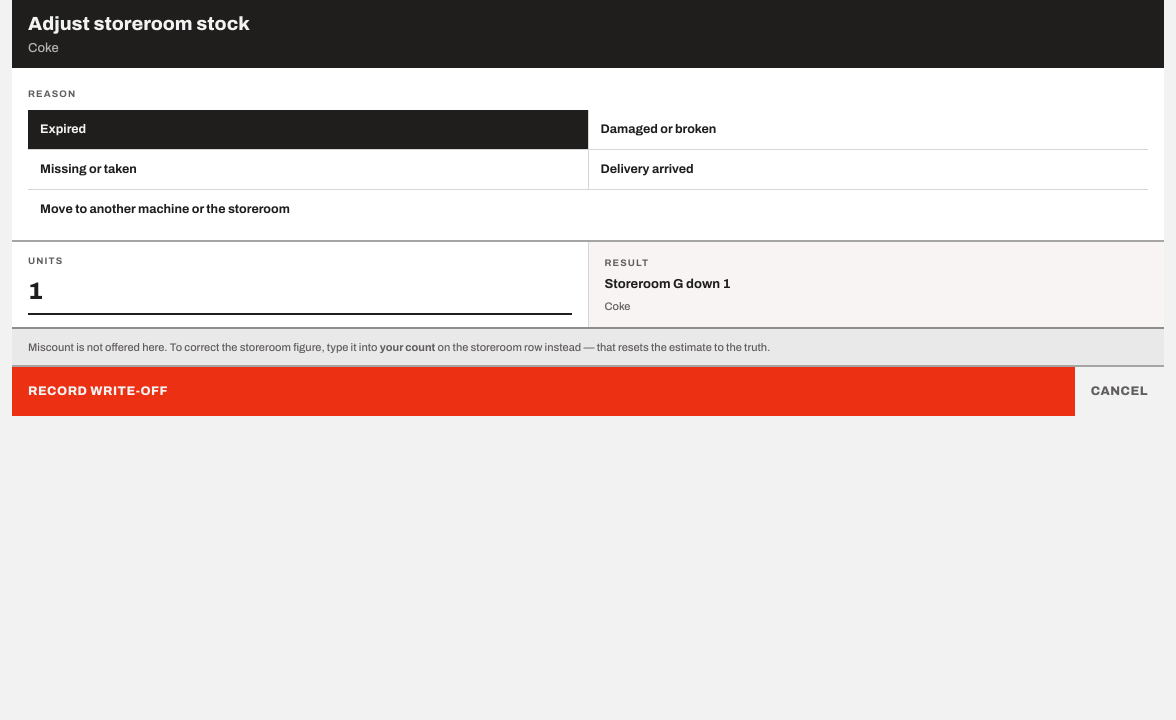
it: AdjustmentSheet — §7 layout › warns on a move that a same-run move is already recorded by the counts
The width and height of the screenshot is (1176, 720).
Click the button "Move to another machine or the storeroom" at (165, 208), box [28,190,1148,228]
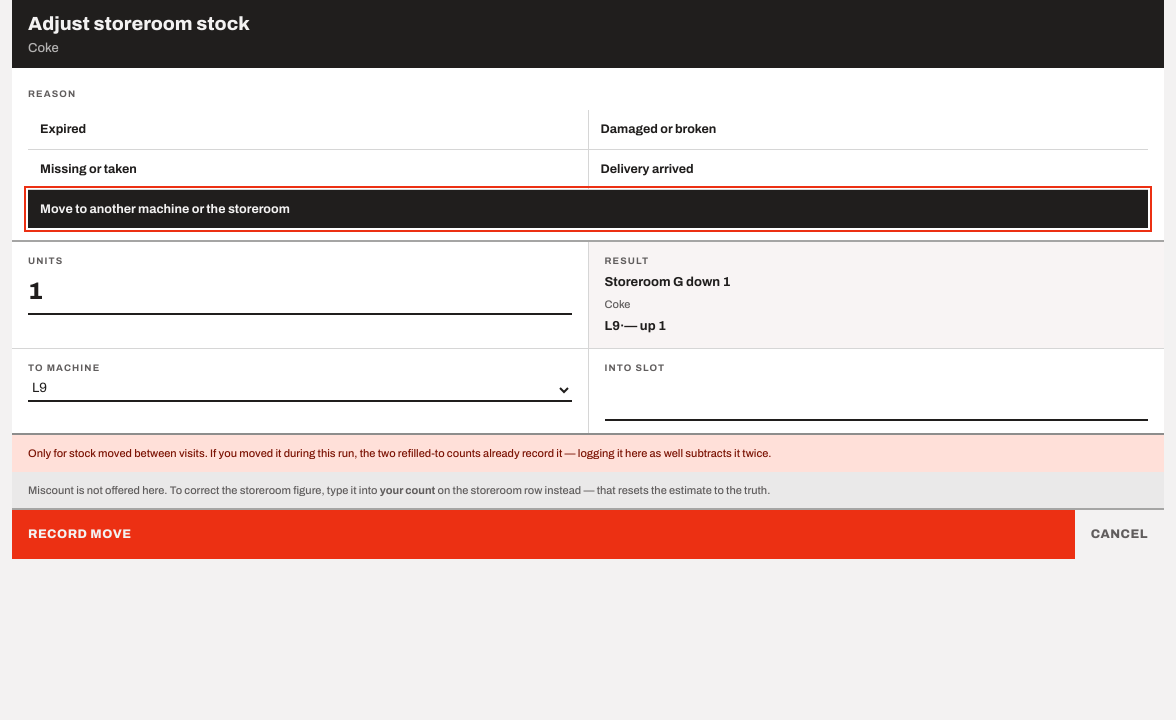
Result: the text "subtracts it twice" is shown at [28,447,772,459]
